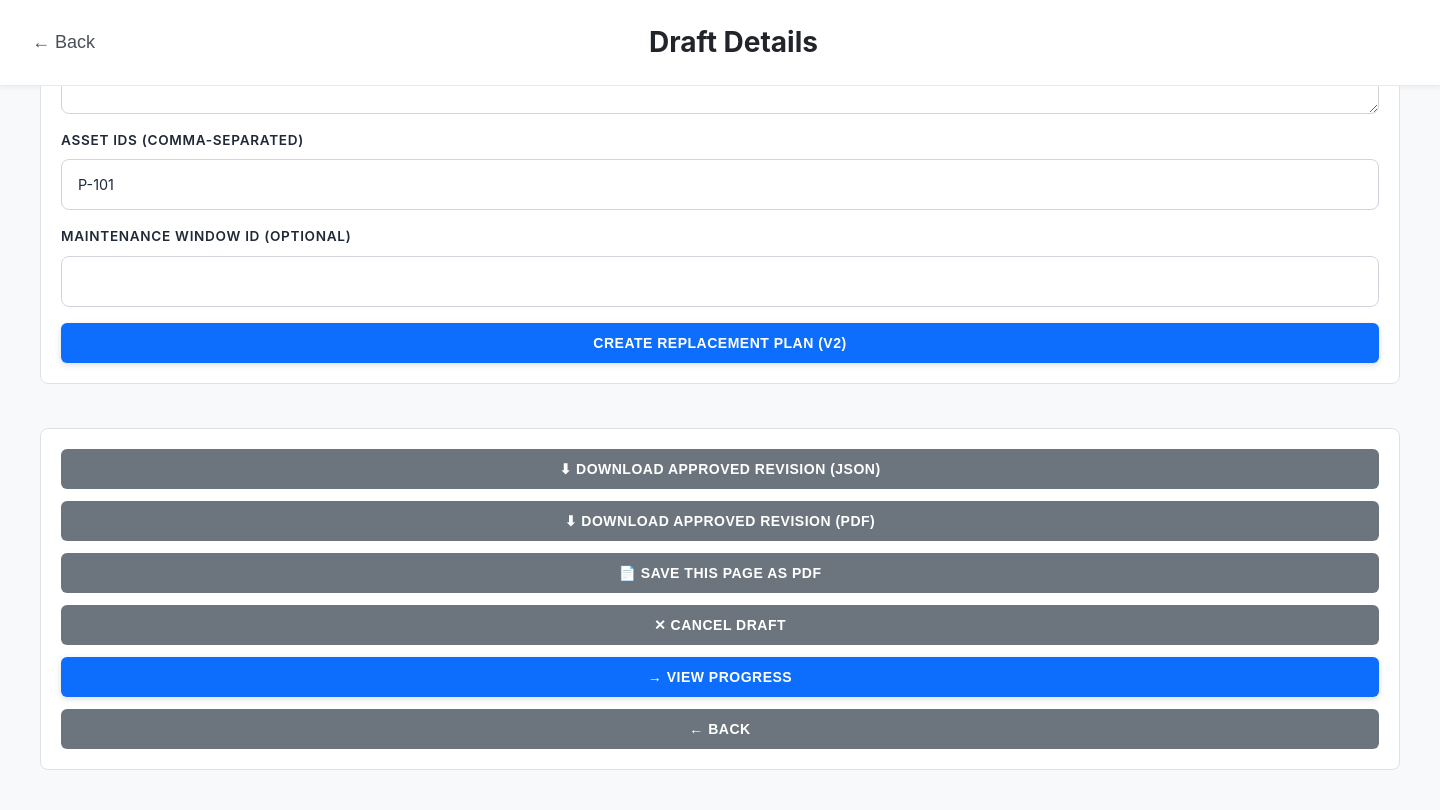
Test case: DraftDetailScreen draft management › shows a cancellation conflict as an error and keeps the draft unchanged
(page scrolled)
Click the button "✕ Cancel draft" at (720, 625), box [61,605,1379,645]
(page scrolled)
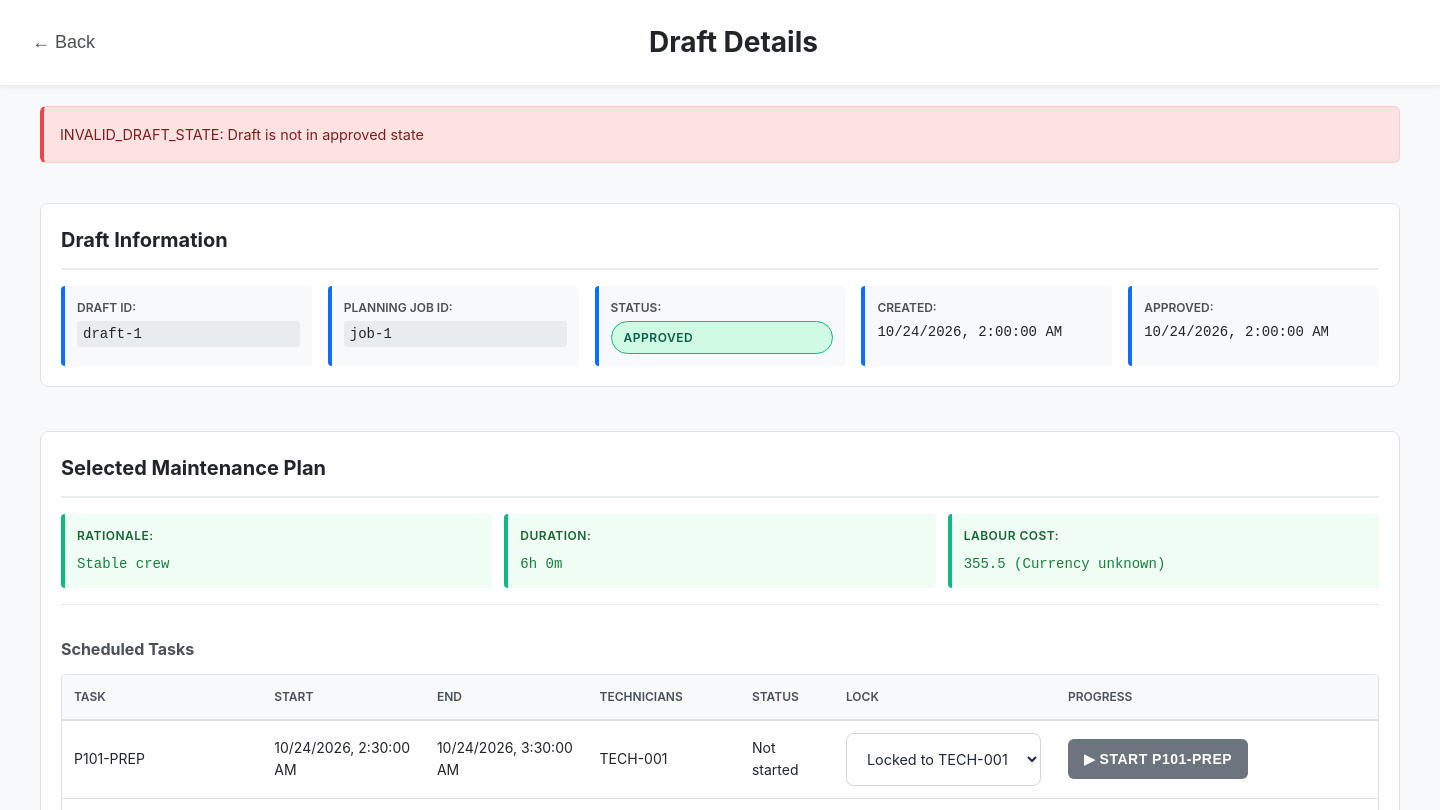
Expected: the message shows "INVALID_DRAFT_STATE", [60,126,424,143]
Expected: the text with test id "draft-status" reads "Approved", [624,330,693,345]
